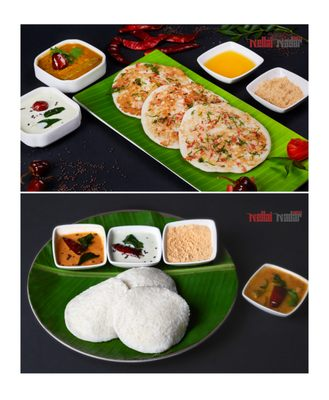sushi: (20, 247, 240, 364), (33, 38, 107, 94), (241, 263, 308, 318), (197, 41, 264, 84), (246, 67, 308, 113), (161, 219, 218, 266), (52, 223, 107, 270), (107, 225, 162, 268)
